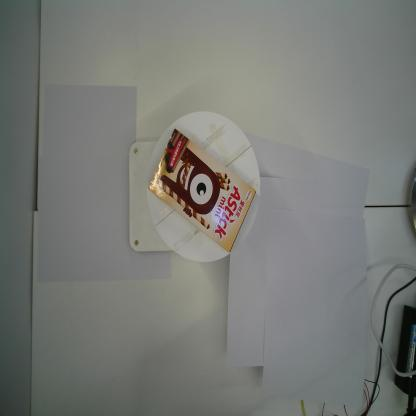Dessert: (147, 126, 258, 254)
